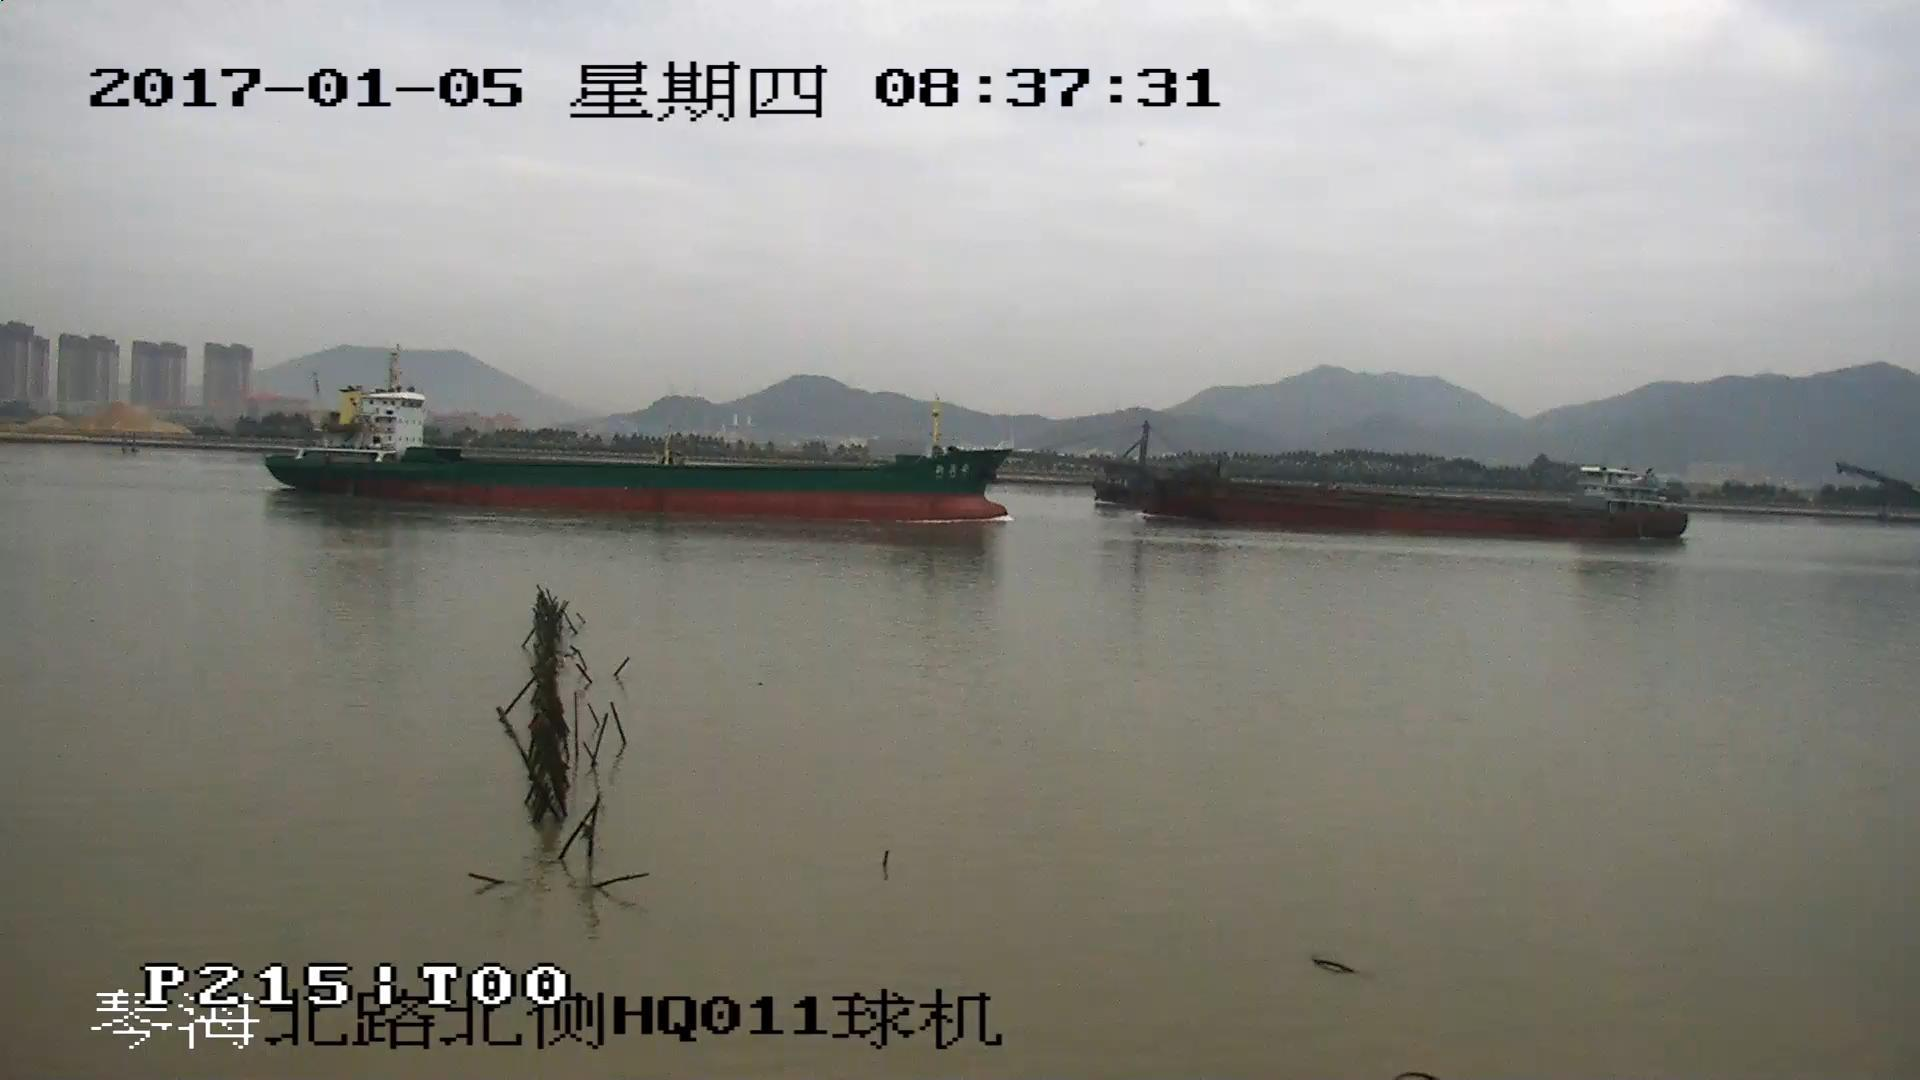Ship: (268, 356, 1011, 524), (1042, 434, 1685, 545)
